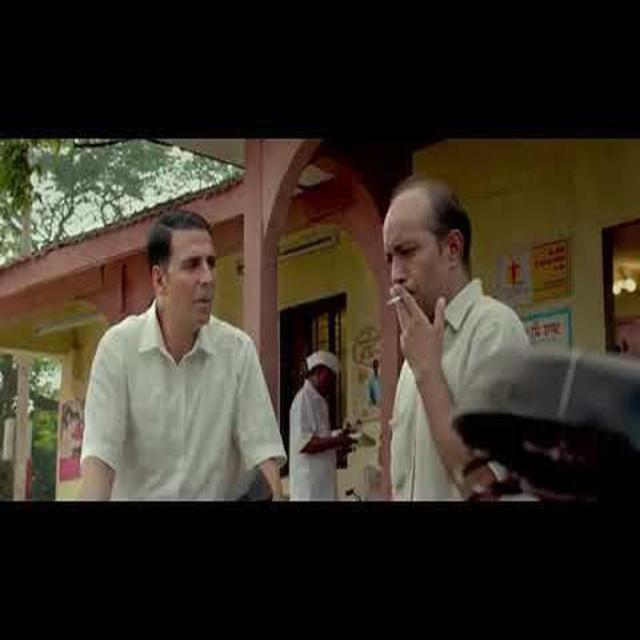smoking: (372, 188, 472, 374)
